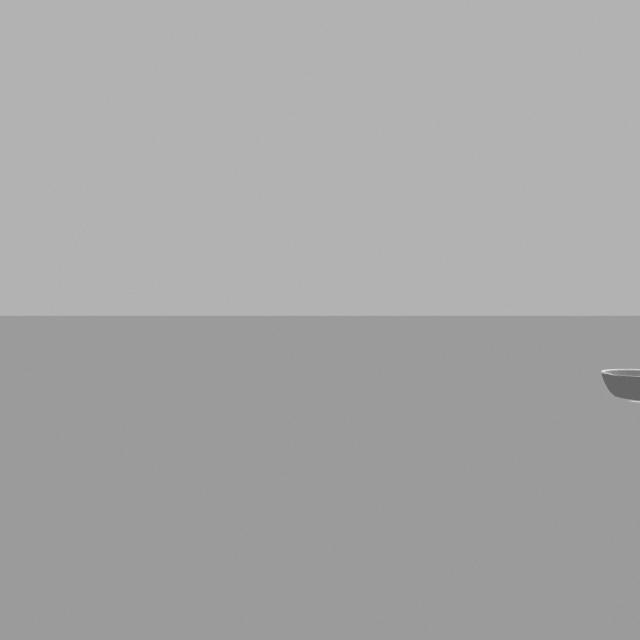bowl: (594, 358, 640, 416)
